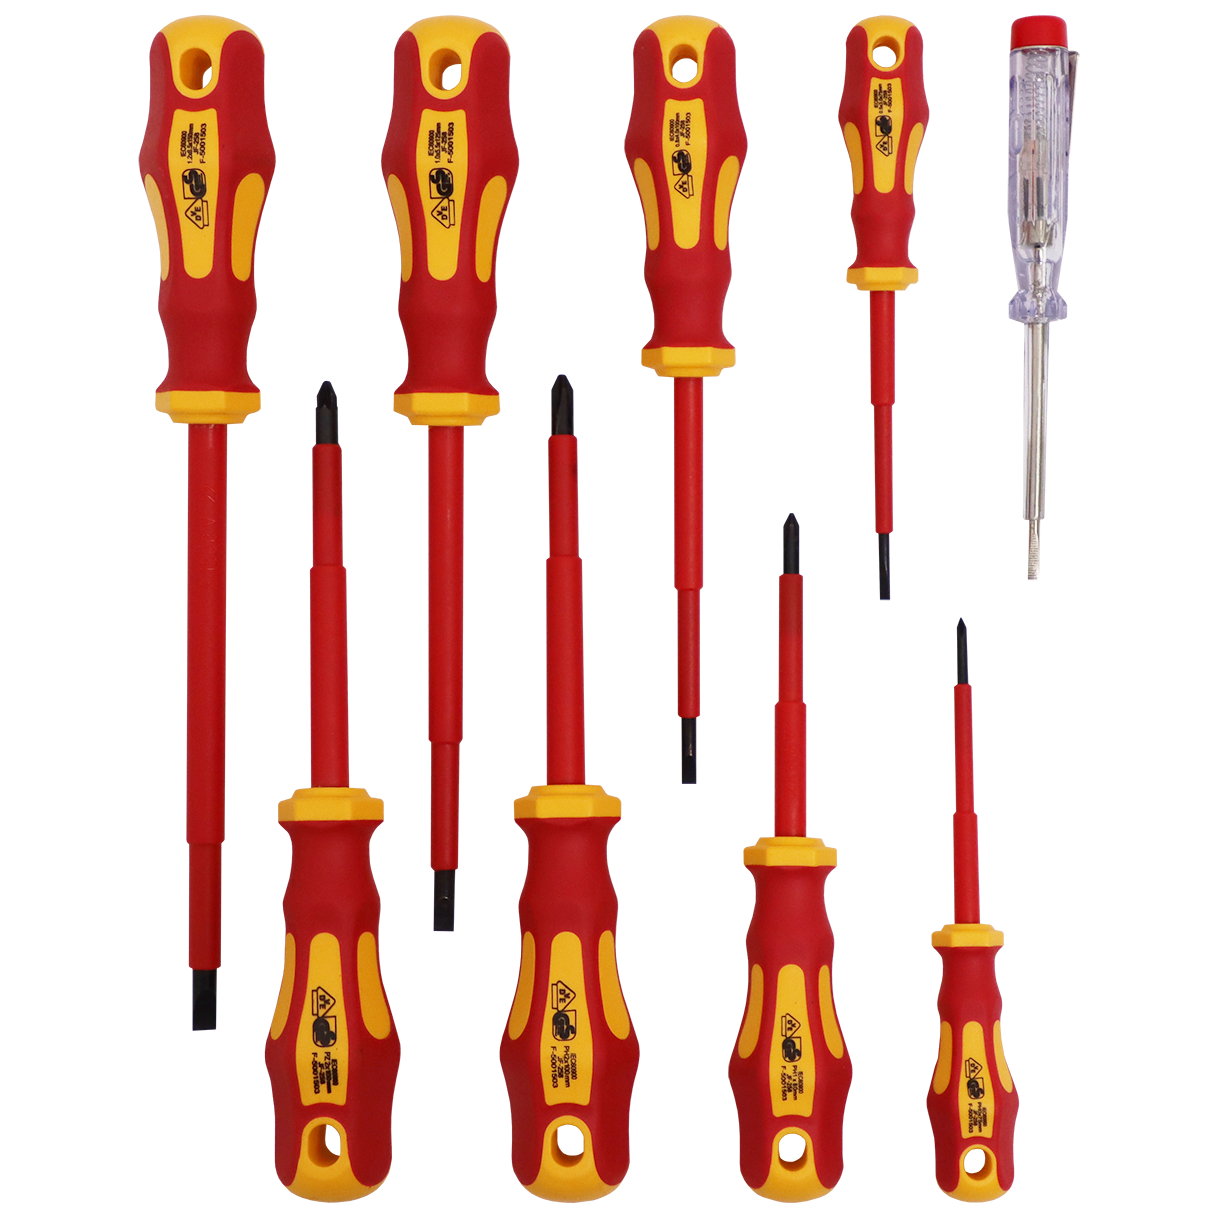screwdriver: (369, 14, 521, 942), (141, 17, 277, 1032), (495, 373, 642, 1205), (261, 380, 404, 1202), (620, 14, 750, 787), (723, 511, 854, 1205), (920, 617, 1023, 1201), (832, 14, 932, 605), (999, 14, 1074, 584)
